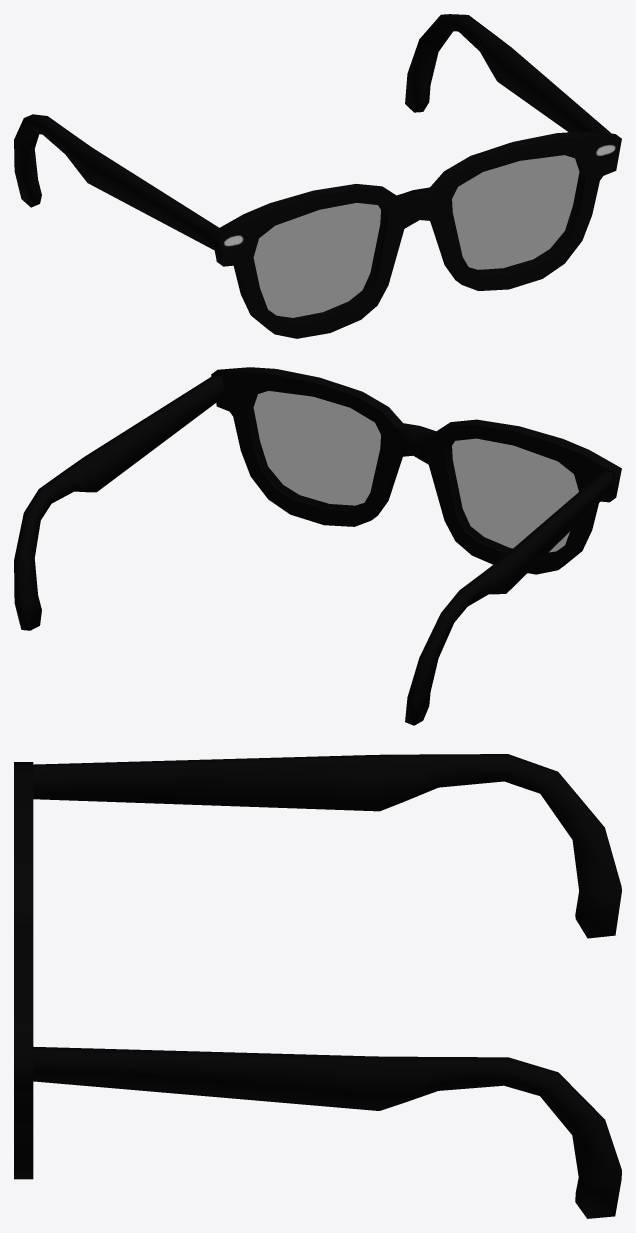
3 renders of one model, top to bottom at view 1: azimuth 30°, elevation 25°; view 2: azimuth 150°, elevation 25°; view 3: azimuth 270°, elevation 25°, orthographic. The views are drawn at different scales.
Parts seen in each view (by area): view 1: Wolf3D_Glasses; view 2: Wolf3D_Glasses; view 3: Wolf3D_Glasses.
Boxes of the visible parts, x1,y1,x2,y2 form: Wolf3D_Glasses: (14, 14, 621, 338); Wolf3D_Glasses: (14, 367, 621, 725); Wolf3D_Glasses: (14, 754, 621, 1218).
Bounding box in the file's own units: 0.1636 × 0.051 × 0.1347.
1 material, 1 textured.
